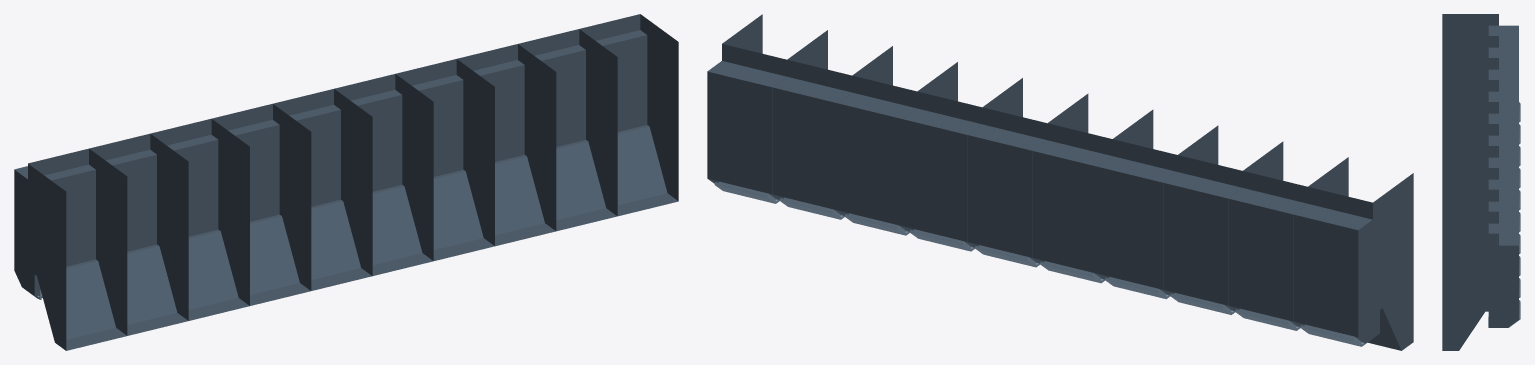
File: mdlCabinOverheadHalf.fbx
The picture shows the model from 3 angles, left to right: view 1: azimuth 30°, elevation 25°; view 2: azimuth 150°, elevation 25°; view 3: azimuth 270°, elevation 25°; orthographic projection. The views are drawn at different scales.
Visible parts, largest first — view 1: CabinOverhead_001; view 2: CabinOverhead_001; view 3: CabinOverhead_001.
Part boxes in pixels (left/top/right/bottom): CabinOverhead_001: left=14, top=14, right=678, bottom=350; CabinOverhead_001: left=707, top=14, right=1413, bottom=350; CabinOverhead_001: left=1442, top=14, right=1520, bottom=350.
Size of the model in its own units: 55.09 by 13.7 by 8.26.
